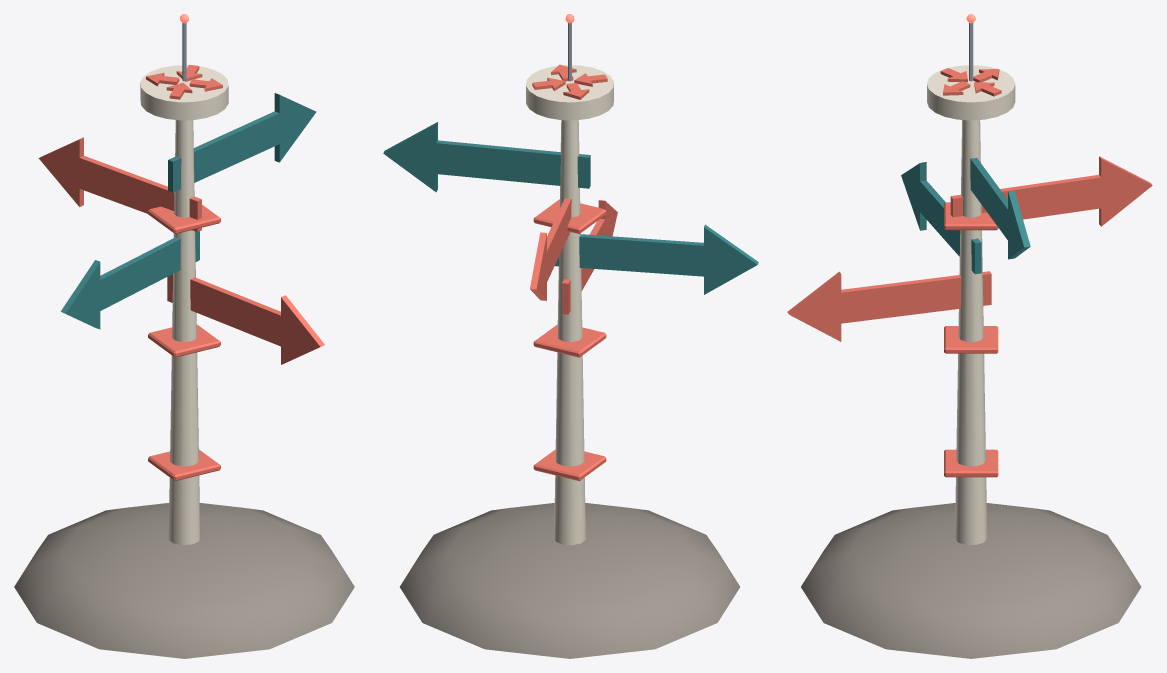
Rendered from bld_d3_c.glb.
3 views of the same model, side by side, from view 1: azimuth 30°, elevation 25°; view 2: azimuth 150°, elevation 25°; view 3: azimuth 270°, elevation 25° (orthographic).
Parts seen in each view (by area): view 1: bld_d3_c; view 2: bld_d3_c; view 3: bld_d3_c.
Part boxes in pixels (<box>): bld_d3_c: <box>14,14,354,658</box>; bld_d3_c: <box>383,14,758,658</box>; bld_d3_c: <box>787,14,1152,658</box>.
Bounding box in the file's own units: 10.66 × 18.54 × 10.73.
